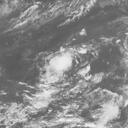cyclone: (47, 48, 75, 73)
